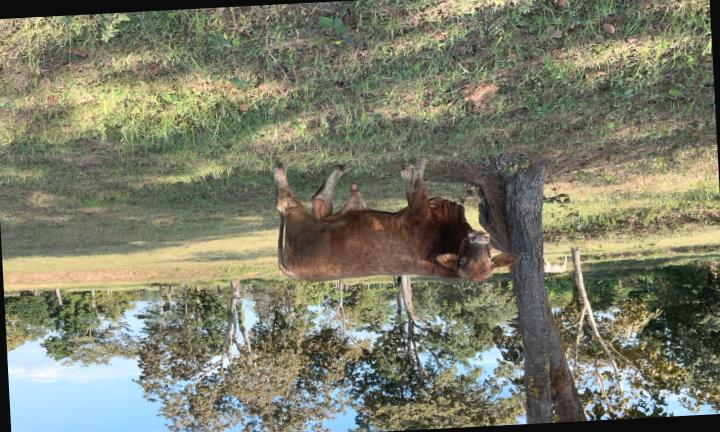Charolais: (274, 160, 519, 281)
